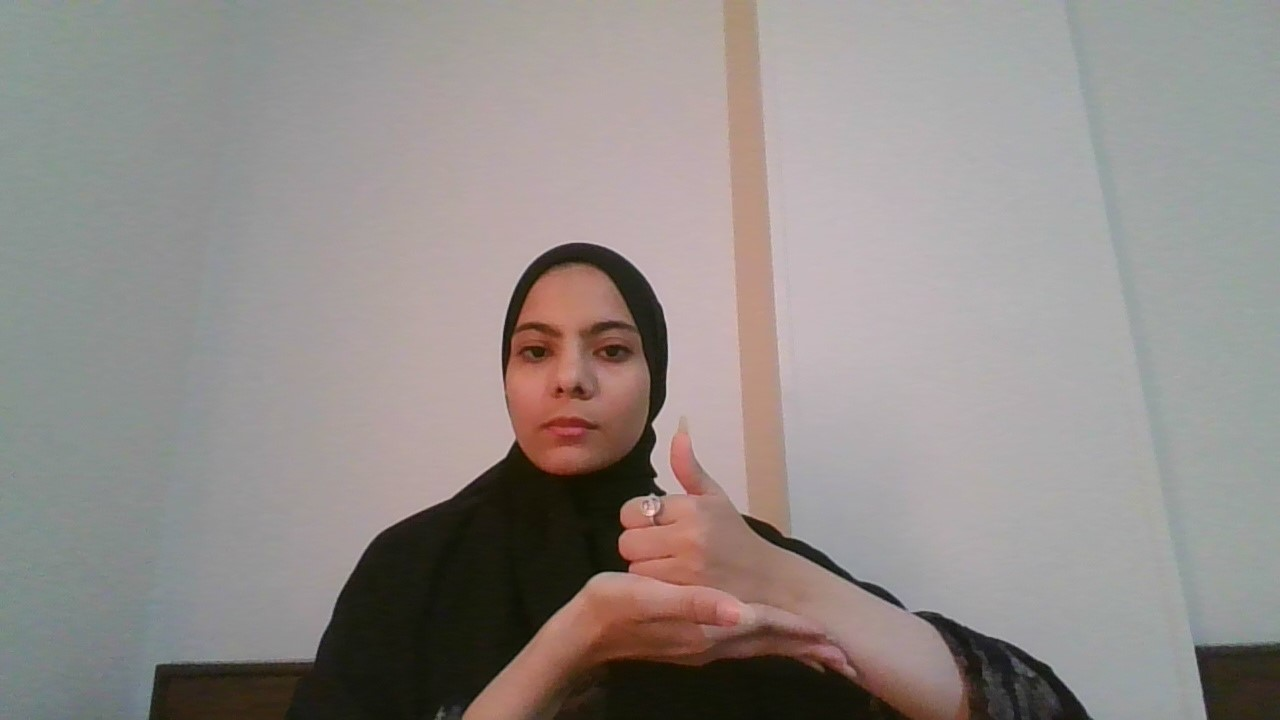help: (612, 405, 799, 622)
